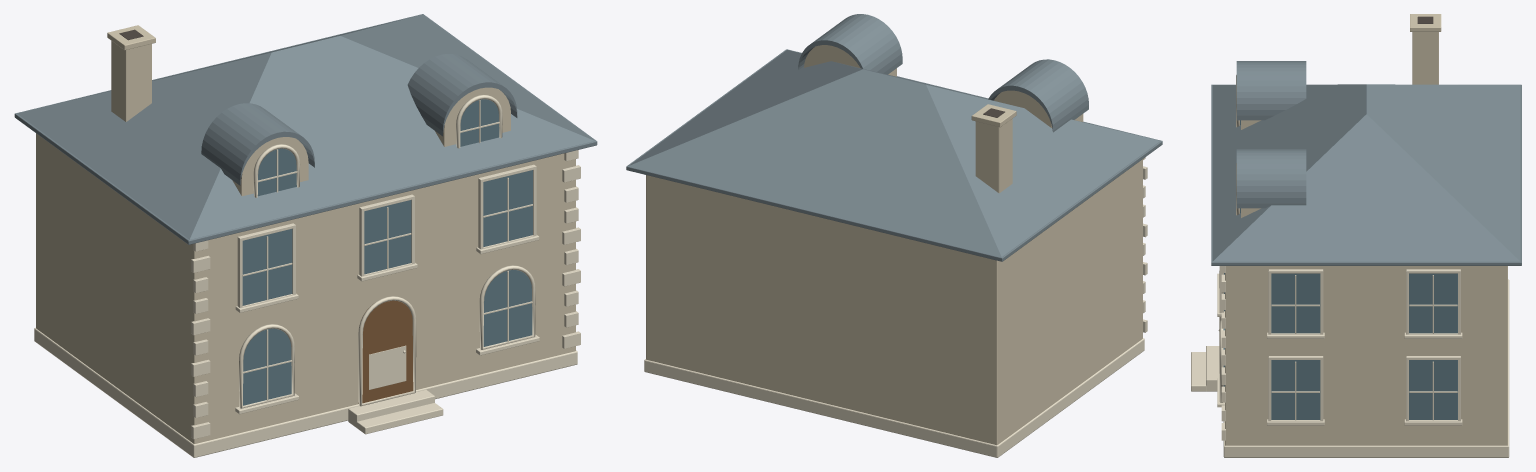
The model's file is medium_french_provincial.glb.
The picture shows the model from 3 angles, left to right: view 1: azimuth 30°, elevation 25°; view 2: azimuth 150°, elevation 25°; view 3: azimuth 270°, elevation 25°; orthographic projection. The views are drawn at different scales.
Parts seen in each view (by area): view 1: Provincial closed stone walls, Provincial steep slate solid hip roof, French provincial foundation, Provincial curved dormer cap, Provincial steep slate closed eave fascia, Provincial curved dormer cap.001, Provincial arched entrance inset pane, Provincial upper window inset pane, Provincial upper window inset pane.001, Provincial ground window inset pane, Provincial ground window inset pane.001, Provincial upper central sash inset pane (+12 smaller); view 2: Provincial closed stone walls, Provincial steep slate solid hip roof, French provincial foundation, Provincial curved dormer cap, Provincial steep slate closed eave fascia, Provincial curved dormer cap.001, Provincial left chimney chimney shaft, Provincial round-top dormer body, Provincial round-top dormer body.001, Provincial left chimney chimney cap; view 3: Provincial steep slate solid hip roof, Provincial closed stone walls, Provincial curved dormer cap.001, French provincial foundation, Provincial curved dormer cap, Provincial side sash inset pane.001, Provincial side sash inset pane, Provincial side sash inset pane.003, Provincial side sash inset pane.002, Provincial steep slate closed eave fascia, Provincial left chimney chimney shaft, Provincial front steps step 2 (+2 smaller).
Boxes of the visible parts, box(x1,y1,x2,y2) form: Provincial closed stone walls: box(36, 133, 575, 443); Provincial steep slate solid hip roof: box(17, 14, 594, 241); French provincial foundation: box(34, 328, 577, 457); Provincial curved dormer cap: box(201, 103, 314, 185); Provincial steep slate closed eave fascia: box(14, 14, 597, 244); Provincial curved dormer cap.001: box(407, 54, 517, 136); Provincial arched entrance inset pane: box(358, 300, 413, 403); Provincial upper window inset pane: box(242, 229, 292, 305); Provincial upper window inset pane.001: box(483, 170, 532, 246); Provincial ground window inset pane: box(243, 328, 291, 405); Provincial ground window inset pane.001: box(483, 270, 532, 346); Provincial upper central sash inset pane: box(364, 200, 411, 274); Provincial closed stone walls: box(646, 159, 1142, 445); Provincial steep slate solid hip roof: box(629, 50, 1159, 256); French provincial foundation: box(644, 338, 1144, 457); Provincial curved dormer cap: box(988, 59, 1088, 132); Provincial steep slate closed eave fascia: box(626, 49, 1162, 261); Provincial curved dormer cap.001: box(798, 14, 902, 74); Provincial left chimney chimney shaft: box(975, 118, 1012, 193); Provincial round-top dormer body: box(994, 90, 1083, 127); Provincial round-top dormer body.001: box(804, 45, 896, 76); Provincial left chimney chimney cap: box(971, 104, 1016, 127); Provincial steep slate solid hip roof: box(1212, 84, 1520, 261); Provincial closed stone walls: box(1225, 266, 1507, 445); Provincial curved dormer cap.001: box(1236, 149, 1306, 208); French provincial foundation: box(1223, 279, 1509, 457); Provincial curved dormer cap: box(1236, 61, 1306, 120); Provincial side sash inset pane.001: box(1271, 273, 1320, 333); Provincial side sash inset pane: box(1271, 360, 1320, 419); Provincial side sash inset pane.003: box(1409, 273, 1457, 333); Provincial side sash inset pane.002: box(1409, 360, 1457, 419); Provincial steep slate closed eave fascia: box(1211, 84, 1521, 265); Provincial left chimney chimney shaft: box(1412, 32, 1438, 84); Provincial front steps step 2: box(1206, 346, 1219, 391).
Size of the model in its own units: 10.7 by 8.22 by 8.41.
